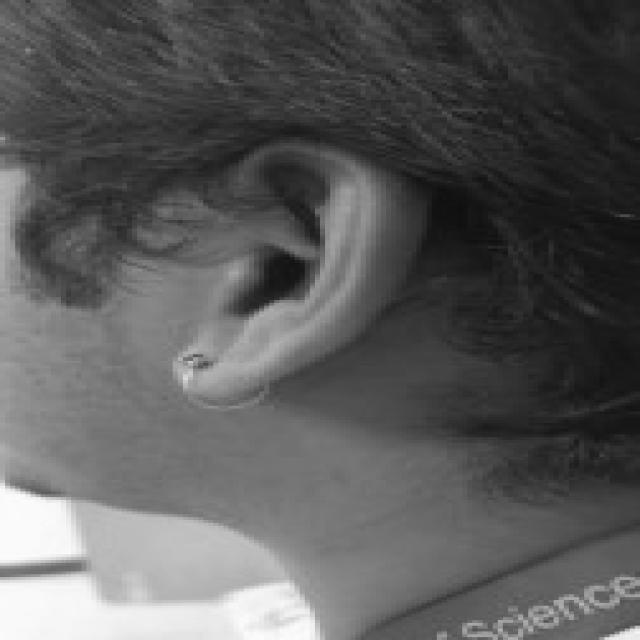ear: (183, 140, 427, 397)
